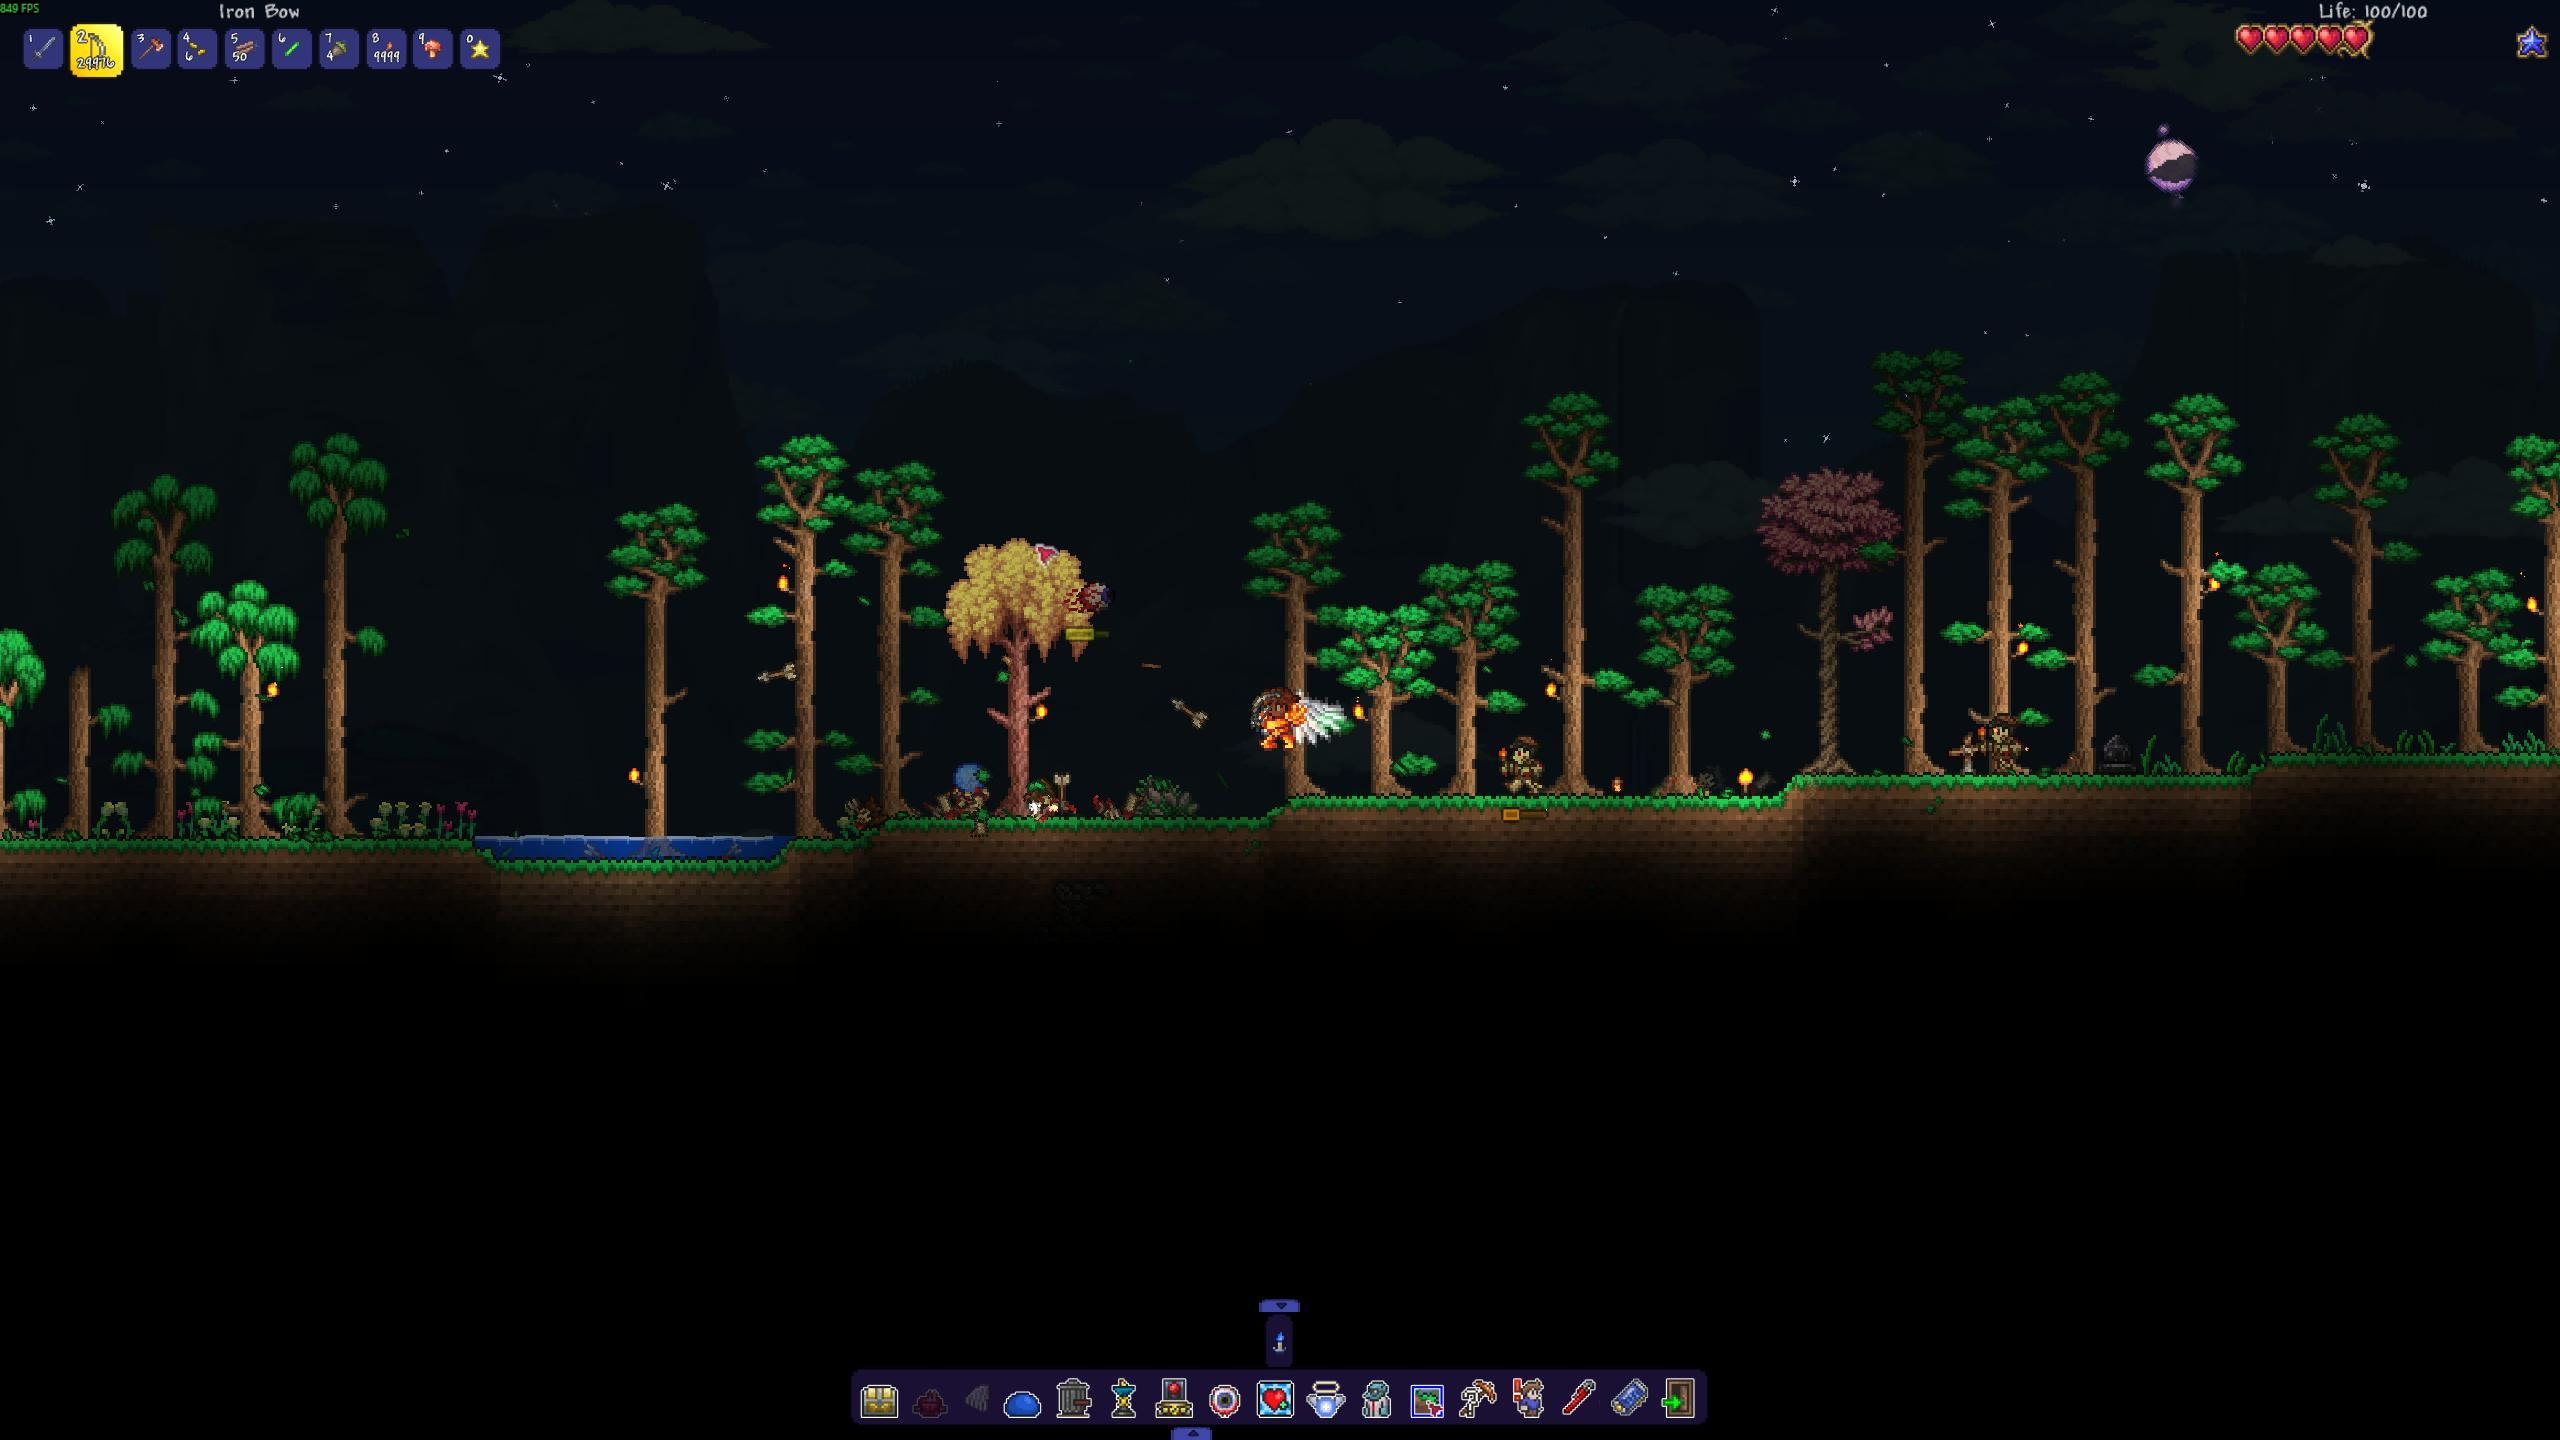Demon Eye: (1057, 571, 1118, 621)
Zombie: (1976, 705, 2031, 774), (1495, 726, 1544, 796)
